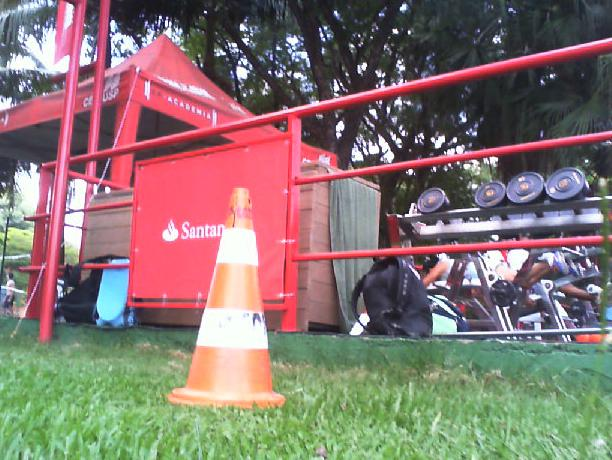0 cone: (168, 187, 286, 408)
